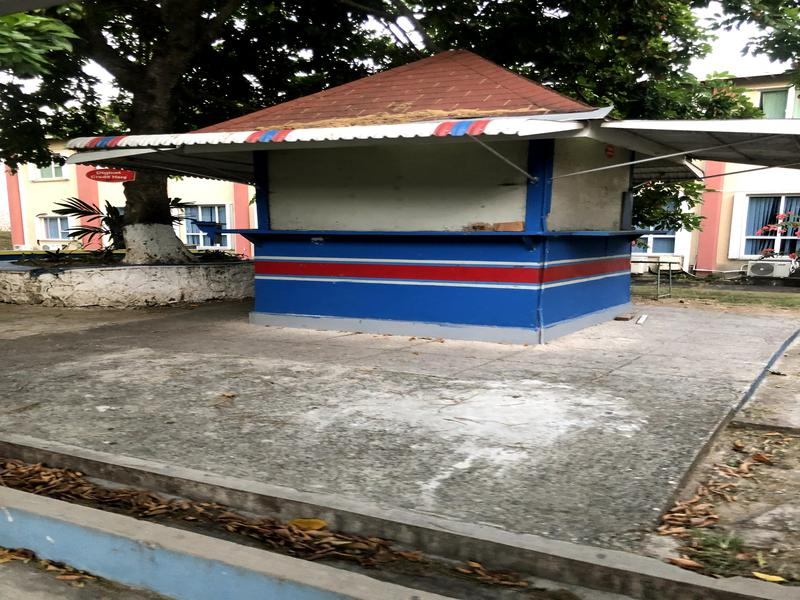18.0050609_-76.7496662_auntyjackie: (202, 36, 650, 363)
